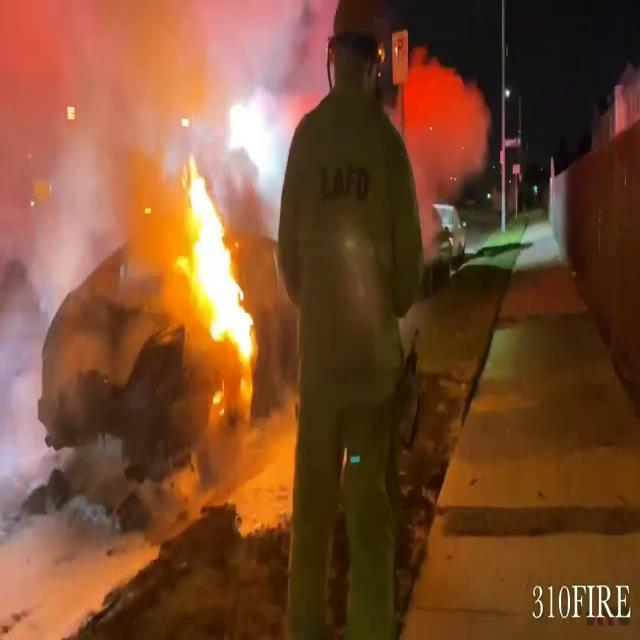Fire: (174, 146, 260, 384)
Smoke: (0, 0, 196, 550)
